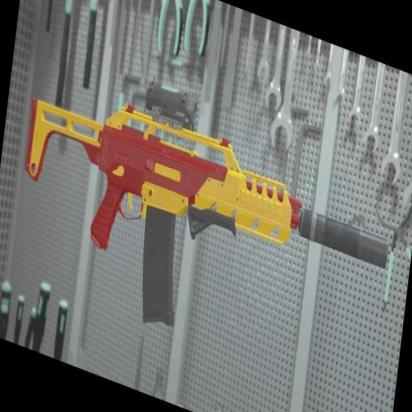Gun: (20, 75, 393, 338)
